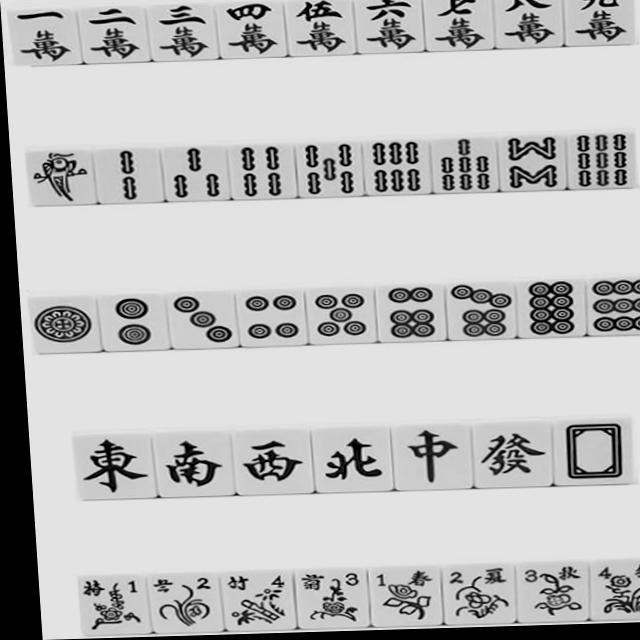bai: (552, 420, 638, 486)
east: (73, 432, 157, 500)
f1: (77, 576, 154, 639)
f2: (147, 573, 226, 636)
f3: (293, 569, 369, 632)
f4: (220, 570, 299, 633)
fa: (470, 421, 556, 487)
ff1: (367, 566, 445, 629)
ff2: (440, 564, 518, 628)
ff3: (513, 561, 592, 625)
ff4: (586, 559, 640, 623)
m1: (7, 9, 81, 66)
m2: (78, 6, 152, 65)
m3: (146, 2, 220, 62)
m4: (215, 0, 289, 58)
m5: (285, 0, 358, 56)
m6: (352, 0, 426, 55)
m7: (422, 0, 495, 52)
m8: (492, 0, 566, 50)
m9: (563, 0, 640, 47)
north: (312, 426, 393, 493)
s1: (25, 150, 95, 205)
s2: (98, 148, 164, 202)
s3: (164, 146, 230, 201)
s4: (230, 144, 298, 199)
s5: (297, 143, 364, 198)
s6: (362, 139, 432, 196)
s7: (429, 139, 500, 195)
s8: (497, 135, 569, 192)
s9: (567, 131, 640, 191)
south: (154, 431, 238, 498)
t1: (28, 297, 100, 355)
t2: (97, 292, 170, 350)
t3: (168, 292, 239, 349)
t4: (238, 289, 309, 347)
t5: (305, 286, 377, 344)
t6: (378, 283, 443, 342)
t7: (445, 282, 519, 339)
t8: (515, 279, 588, 338)
t9: (585, 276, 640, 336)
west: (233, 430, 316, 496)
zhong: (392, 424, 476, 490)
